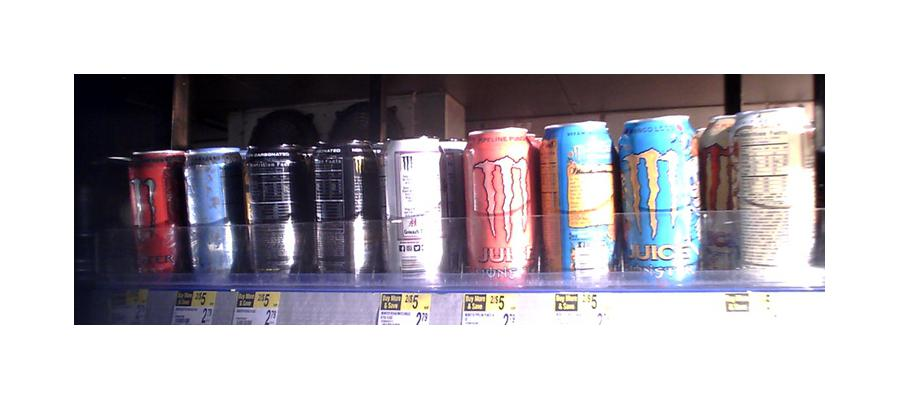bottle: (734, 103, 813, 281), (619, 114, 700, 280), (381, 116, 459, 281), (309, 99, 376, 280), (546, 121, 615, 282), (240, 112, 306, 279), (465, 127, 535, 280), (126, 142, 182, 279), (184, 142, 239, 281), (702, 109, 744, 275)
